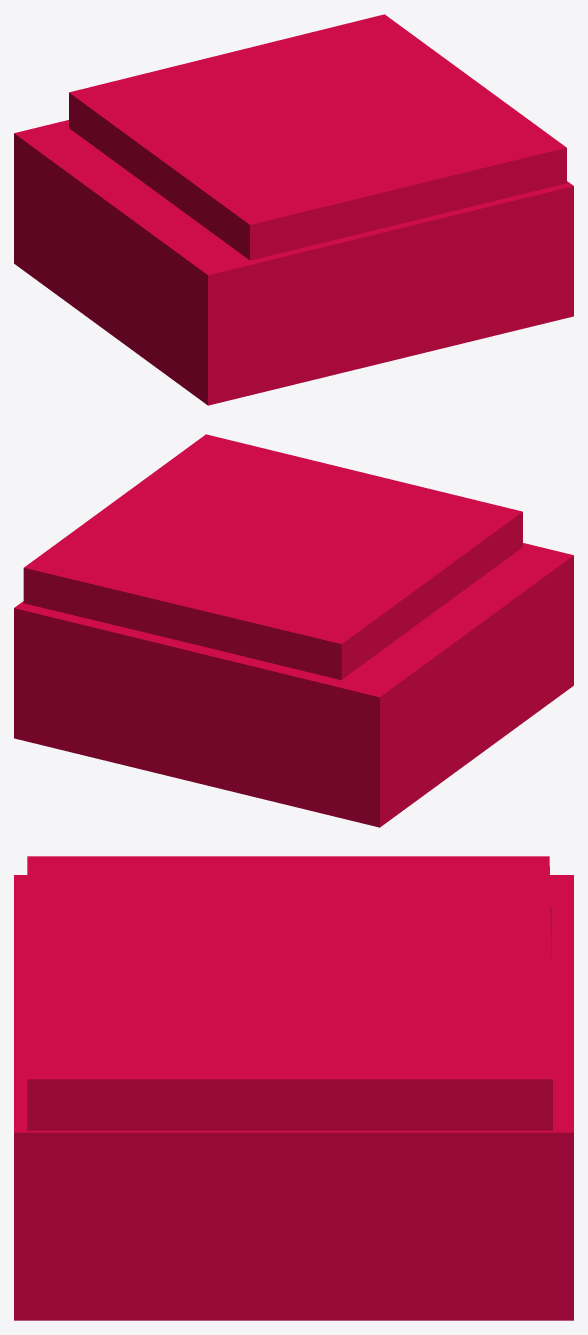
Rendered from Blockable.fbx.
The picture shows the model from 3 angles, top to bottom: view 1: azimuth 30°, elevation 25°; view 2: azimuth 150°, elevation 25°; view 3: azimuth 270°, elevation 25°; orthographic projection. The views are drawn at different scales.
Visible parts, largest first — view 1: pCube17, pCube16; view 2: pCube17, pCube16; view 3: pCube16, pCube17.
Boxes of the visible parts, x1,y1,x2,y2 form: pCube17: (14,120,573,405); pCube16: (69,14,566,260); pCube17: (14,543,573,827); pCube16: (23,434,522,679); pCube16: (27,856,552,1130); pCube17: (14,875,573,1320).
Size of the model in its own units: 935 by 405 by 860.
